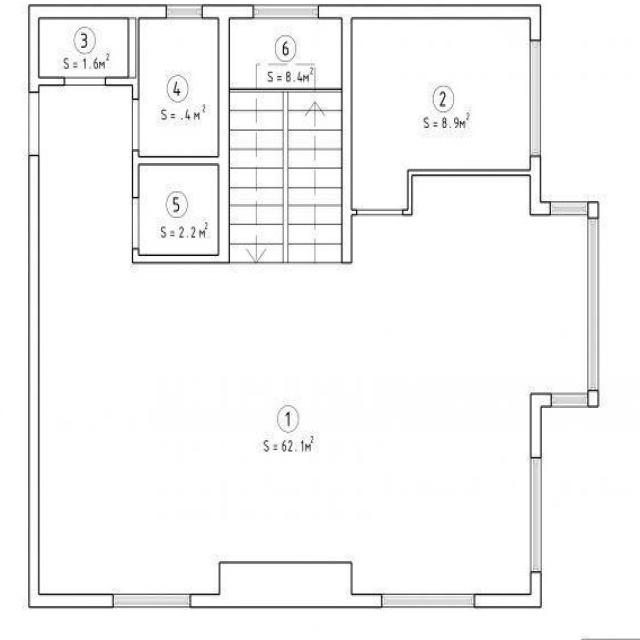Bathrooms: (140, 167, 218, 254)
Corridors: (41, 20, 126, 76)
Doors: (27, 91, 39, 156), (64, 76, 106, 86), (356, 208, 402, 216), (132, 99, 139, 150), (132, 198, 139, 248)
LBwalls: (318, 4, 542, 266), (28, 156, 113, 610), (203, 4, 253, 264), (28, 4, 167, 91), (190, 560, 381, 609), (475, 572, 543, 610), (529, 392, 551, 458), (530, 158, 552, 216), (588, 201, 599, 219), (588, 390, 599, 408)
Offices: (40, 88, 587, 593), (353, 19, 529, 208), (140, 19, 217, 156)
Stairs: (230, 18, 340, 264)
Walls: (403, 168, 530, 216), (132, 151, 218, 198), (106, 18, 139, 100), (132, 249, 218, 265), (39, 77, 64, 86), (353, 209, 356, 216)
Windows: (587, 217, 599, 389), (380, 593, 475, 608), (530, 457, 542, 572), (530, 40, 541, 157), (113, 593, 191, 607), (252, 4, 319, 18), (551, 392, 589, 407), (551, 200, 589, 215), (166, 4, 202, 18)
